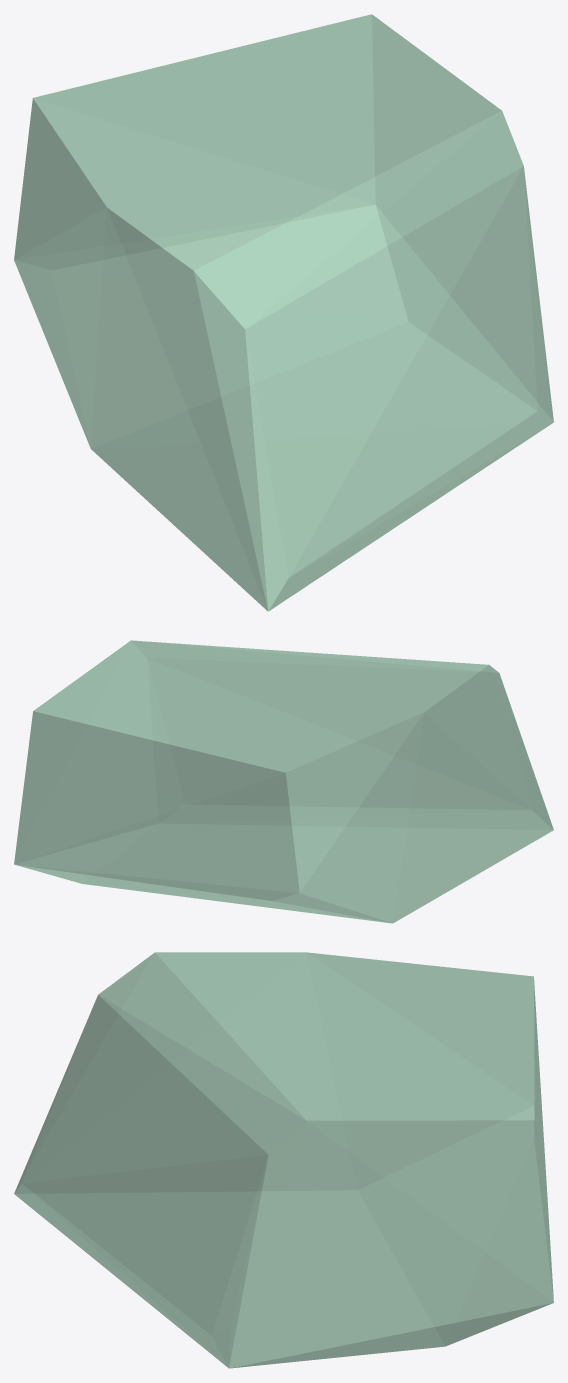
The picture shows the model from 3 angles, top to bottom: view 1: azimuth 30°, elevation 25°; view 2: azimuth 150°, elevation 25°; view 3: azimuth 270°, elevation 25°; orthographic projection. The views are drawn at different scales.
Parts seen in each view (by area): view 1: Shape_IndexedFaceSet.018_Shape_IndexedFaceSet.3356; view 2: Shape_IndexedFaceSet.018_Shape_IndexedFaceSet.3356; view 3: Shape_IndexedFaceSet.018_Shape_IndexedFaceSet.3356.
Boxes of the visible parts, left/top/right/bottom form: Shape_IndexedFaceSet.018_Shape_IndexedFaceSet.3356: left=14, top=14, right=553, bottom=611; Shape_IndexedFaceSet.018_Shape_IndexedFaceSet.3356: left=14, top=640, right=553, bottom=923; Shape_IndexedFaceSet.018_Shape_IndexedFaceSet.3356: left=14, top=952, right=553, bottom=1368.
Bounding box in the file's own units: 0.1836 × 0.1184 × 0.2361.
